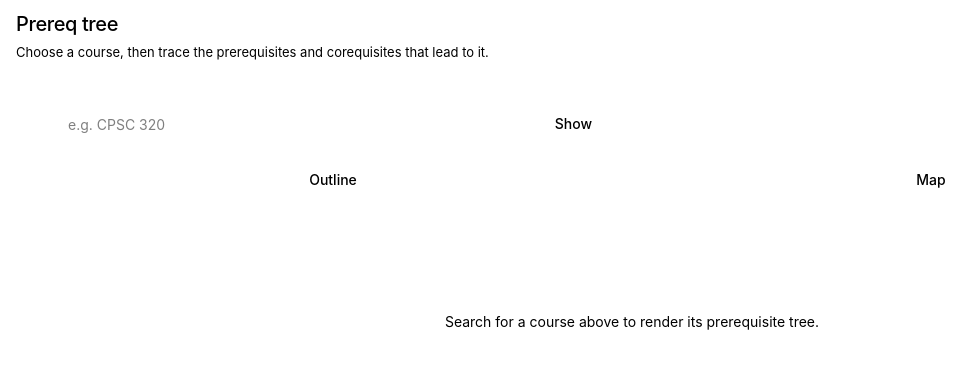
Test case: PrereqTreePane › renders the not-found state with CPSC 110 / MATH 200 suggestions on a missing submit (REQ-10.4)
Type "NOPE 999" into the dropdown named "Root course code".
click(281, 124); type("NOPE 999")  # box [32,102,531,146]
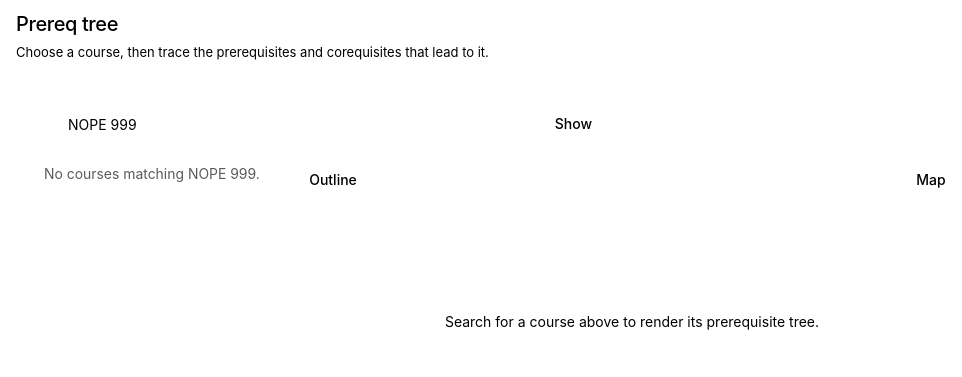
Click the button "Show".
click(573, 124)  # box [539,102,608,146]
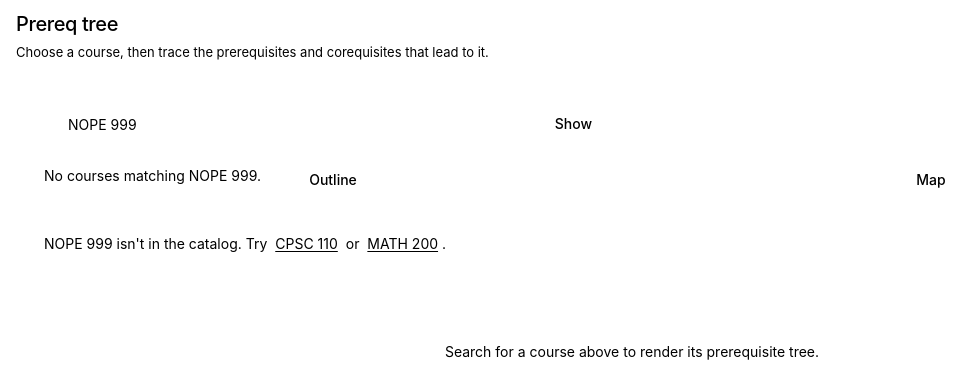
Expected: the text "NOPE 999 isn't in the catalog. Try CPSC 110 or MATH 200 ." is shown, [44,222,446,266]
Expected: the button "CPSC 110" is shown, [271,222,342,266]
Expected: the button "MATH 200" is shown, [363,222,442,266]
